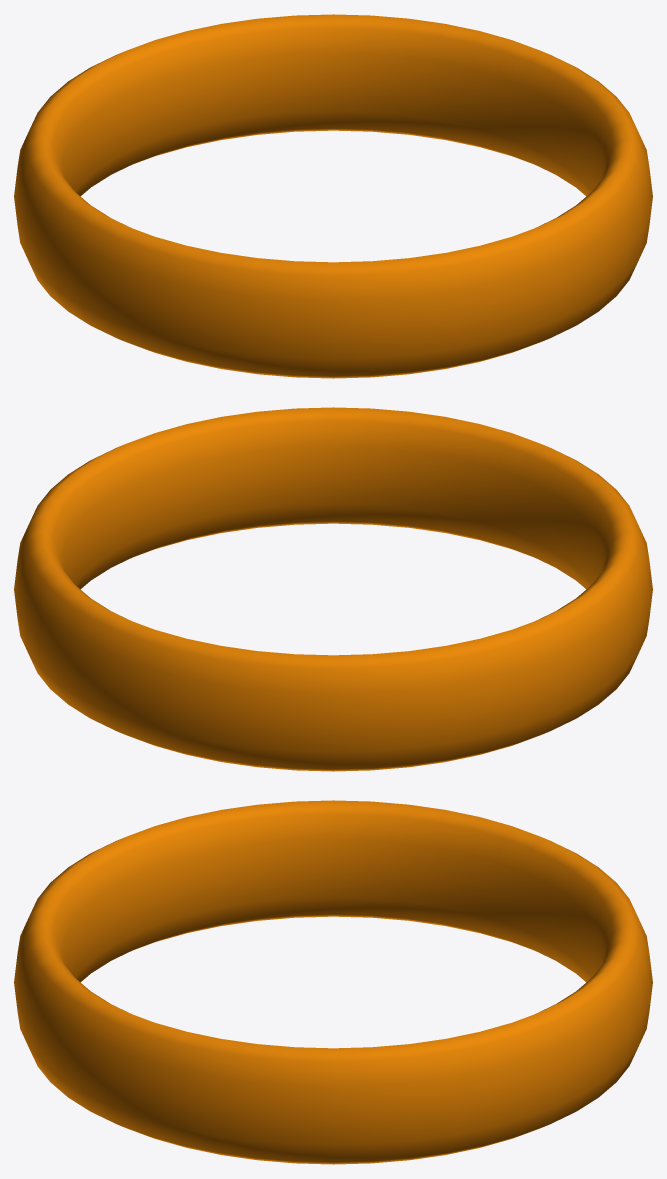
File: Ring.fbx
3 views of the same model, one above another, from view 1: azimuth 30°, elevation 25°; view 2: azimuth 150°, elevation 25°; view 3: azimuth 270°, elevation 25° (orthographic).
Parts seen in each view (by area): view 1: Torus_005; view 2: Torus_005; view 3: Torus_005.
Boxes of the visible parts, <box> form: Torus_005: <box>14,14,652,378</box>; Torus_005: <box>14,407,652,771</box>; Torus_005: <box>14,800,652,1164</box>.
Size of what is drawn, in the model's own units: 2.18 by 0.4373 by 2.18.
